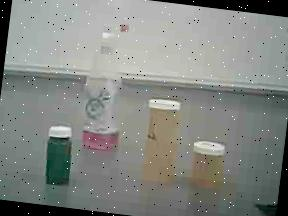Bottle A: (136, 94, 190, 189)
Bottle B: (186, 136, 231, 194)
Bottle C: (40, 122, 79, 188)
hazard: (76, 15, 144, 158)
